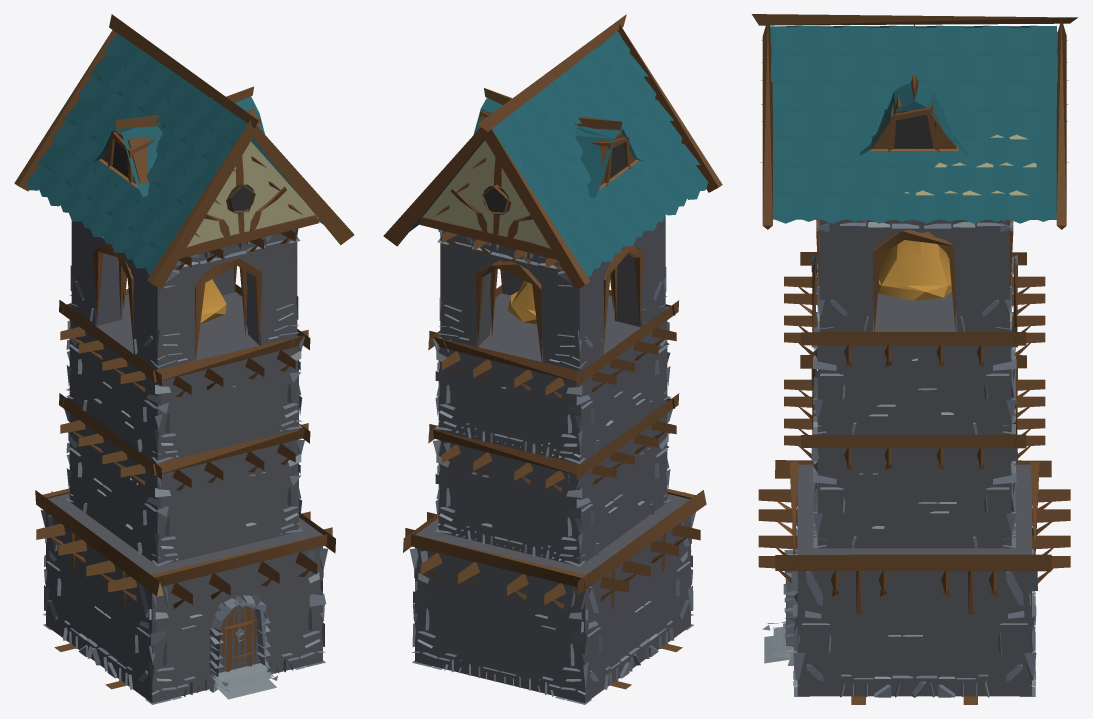
Rendered from LOD2_BellTower.fbx.
3 renders of one model, left to right at view 1: azimuth 30°, elevation 25°; view 2: azimuth 150°, elevation 25°; view 3: azimuth 270°, elevation 25°, orthographic. The views are drawn at different scales.
Visible parts, largest first — view 1: Bell_Tower; view 2: Bell_Tower; view 3: Bell_Tower.
Boxes of the visible parts, left/top/right/bottom form: Bell_Tower: left=14, top=14, right=354, bottom=704; Bell_Tower: left=383, top=14, right=722, bottom=704; Bell_Tower: left=751, top=14, right=1077, bottom=704.
Bounding box in the file's own units: 194 × 476 × 222.
